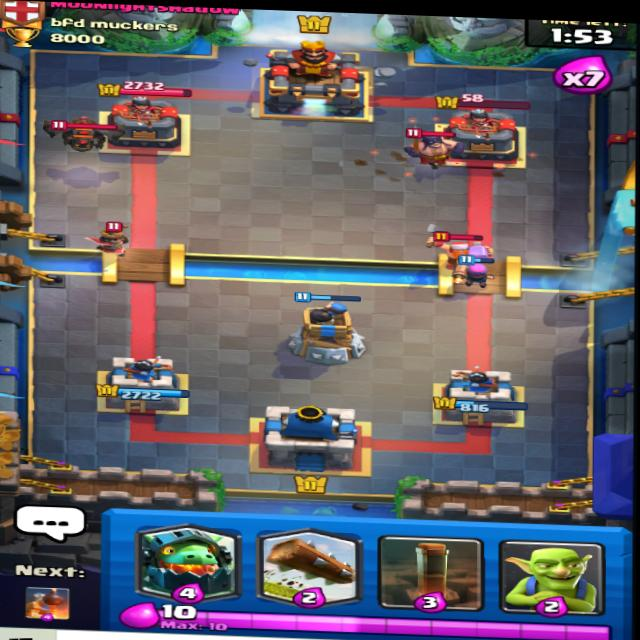executioner: (396, 124, 465, 169)
lava-hound: (51, 114, 117, 158)
little-prince: (84, 214, 143, 262)
lumberjack: (423, 225, 497, 262)
